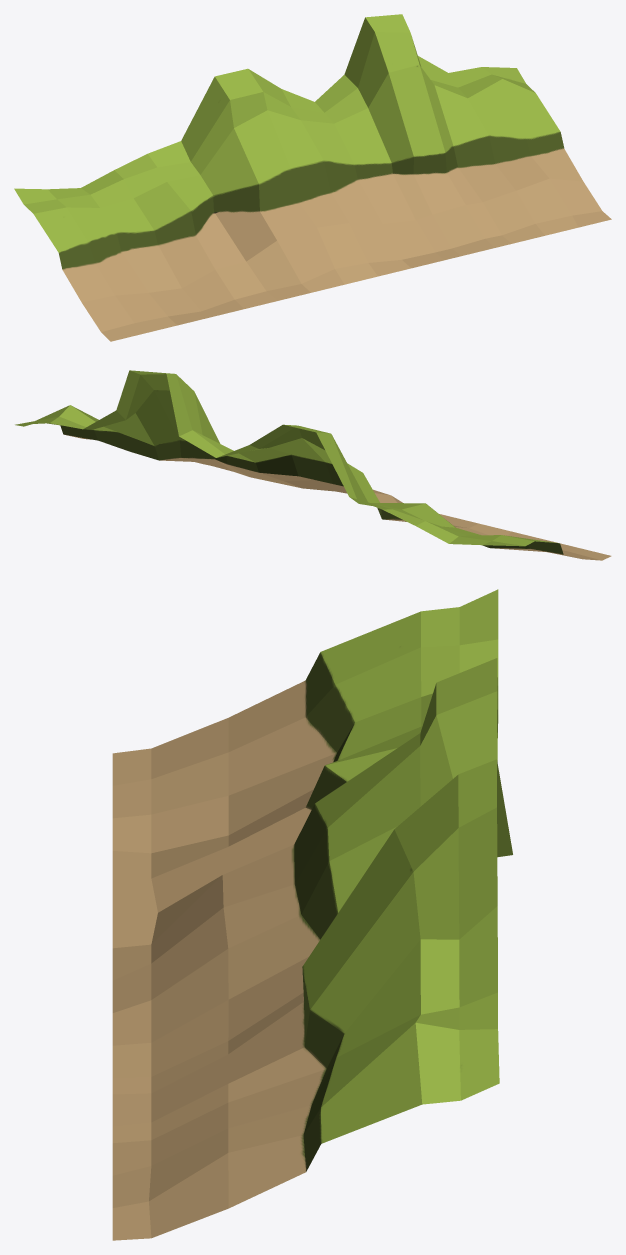
Rendered from planeStraight.fbx.
3 views of the same model, one above another, from view 1: azimuth 30°, elevation 25°; view 2: azimuth 150°, elevation 25°; view 3: azimuth 270°, elevation 25° (orthographic). The views are drawn at different scales.
Visible parts, largest first — view 1: pPlane15; view 2: pPlane15; view 3: pPlane15.
Boxes of the visible parts, box(x1,y1,x2,y2) form: pPlane15: box(14, 14, 611, 341); pPlane15: box(15, 370, 611, 560); pPlane15: box(112, 589, 512, 1240).
Bounding box in the file's own units: 40.4 × 13 × 13.97.
